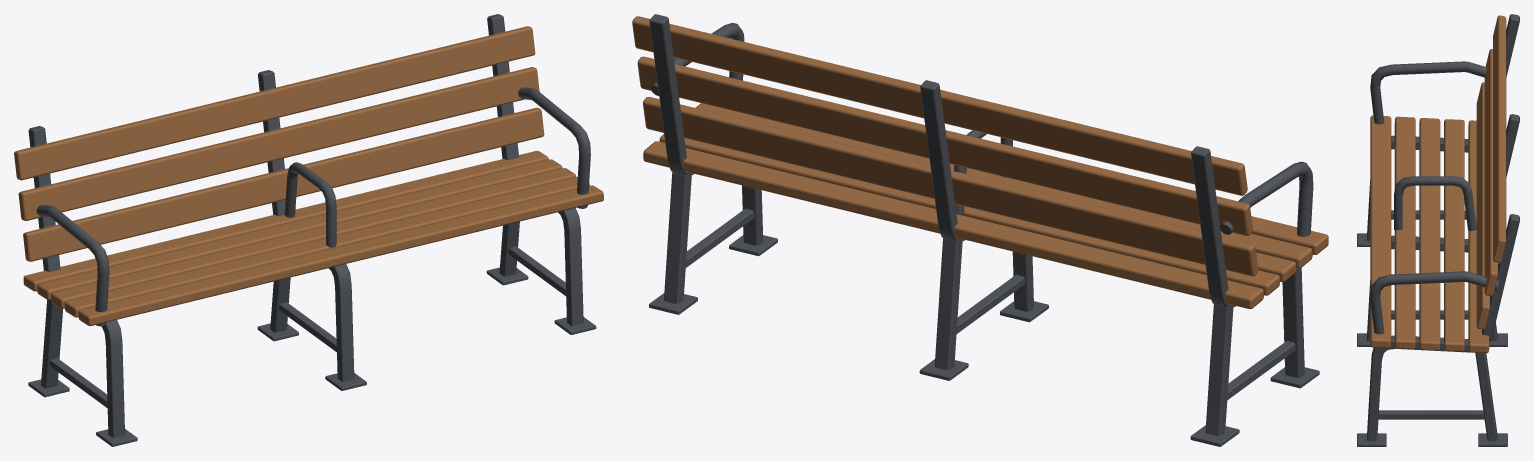
The model's file is bench.fbx.
3 renders of one model, left to right at view 1: azimuth 30°, elevation 25°; view 2: azimuth 150°, elevation 25°; view 3: azimuth 270°, elevation 25°, orthographic. The views are drawn at different scales.
Parts seen in each view (by area): view 1: bench; view 2: bench; view 3: bench.
Boxes of the visible parts, x1=… form: bench: x1=14, y1=14, x2=603, y2=446; bench: x1=632, y1=14, x2=1328, y2=446; bench: x1=1357, y1=14, x2=1519, y2=446.
Size of the model in its own units: 1.8 by 0.8439 by 0.5508.
